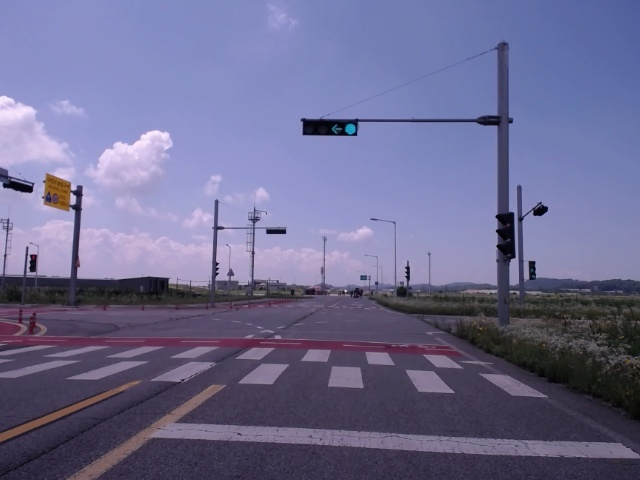all_green_4: (299, 116, 358, 135)
